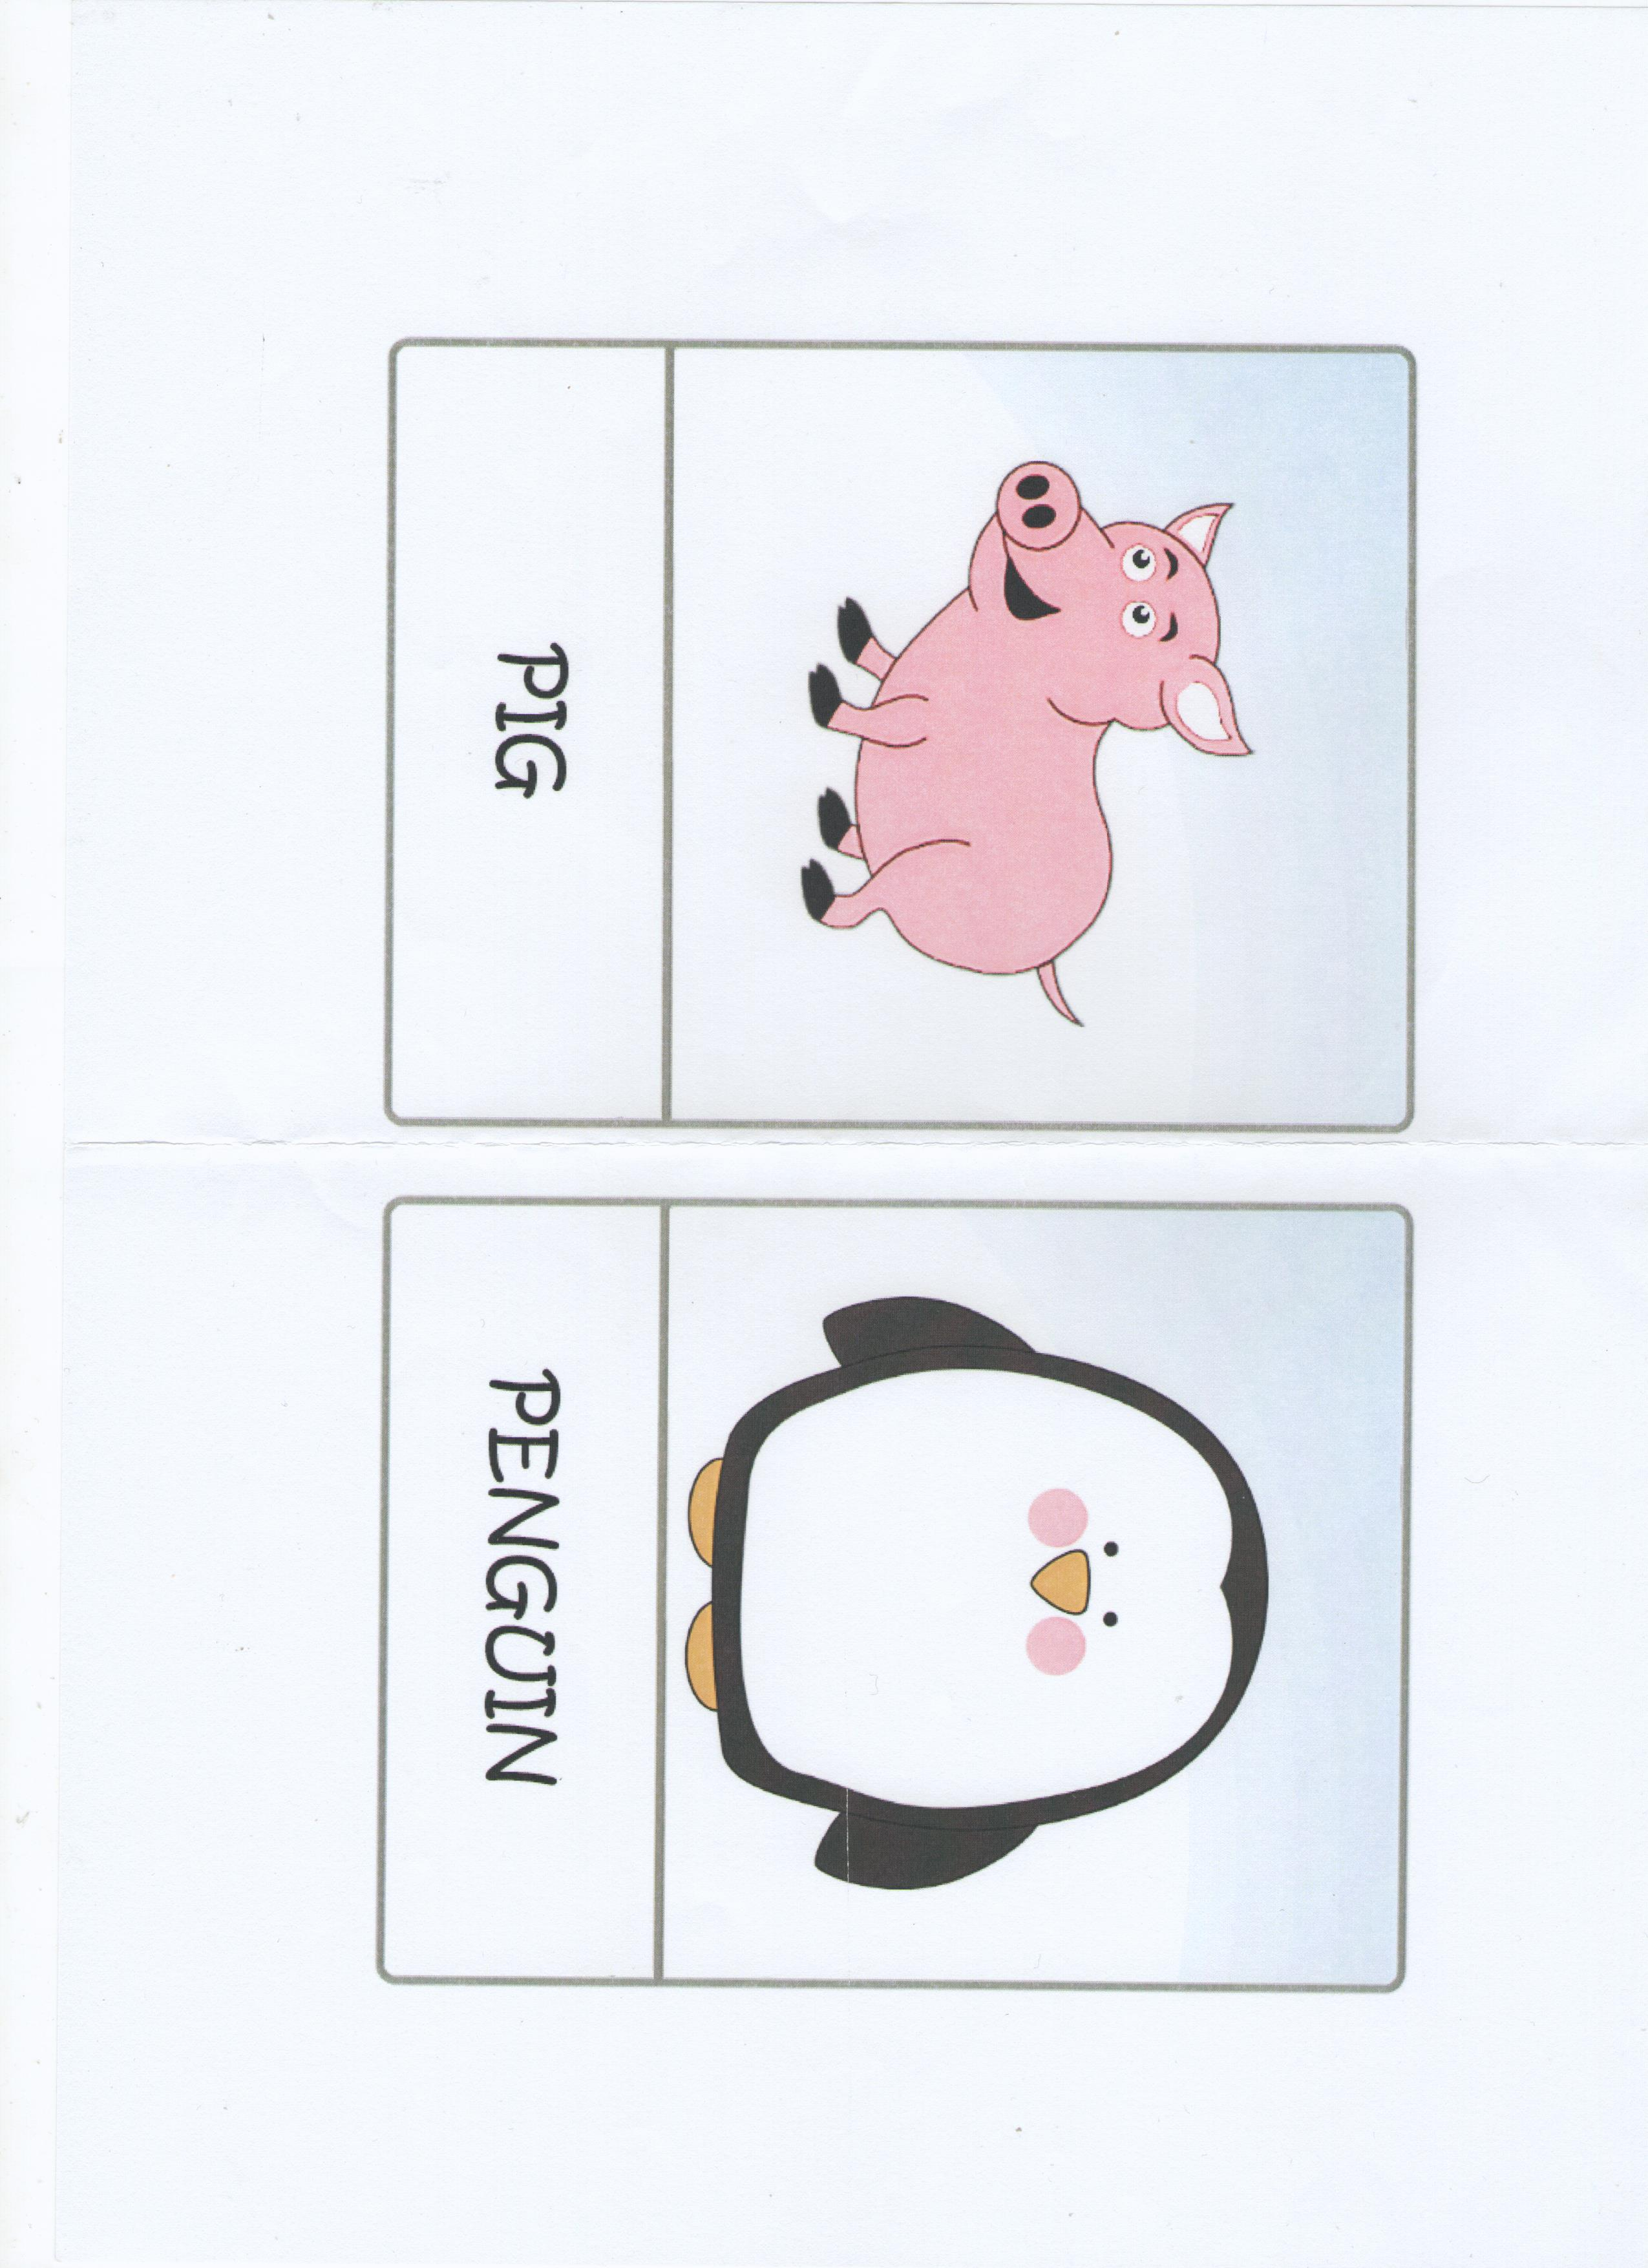maiale: (400, 363, 1368, 1076)
pinguino: (422, 1218, 1358, 1912)
